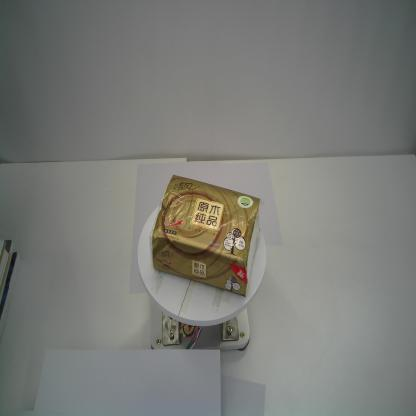Tissue: (149, 174, 260, 298)
